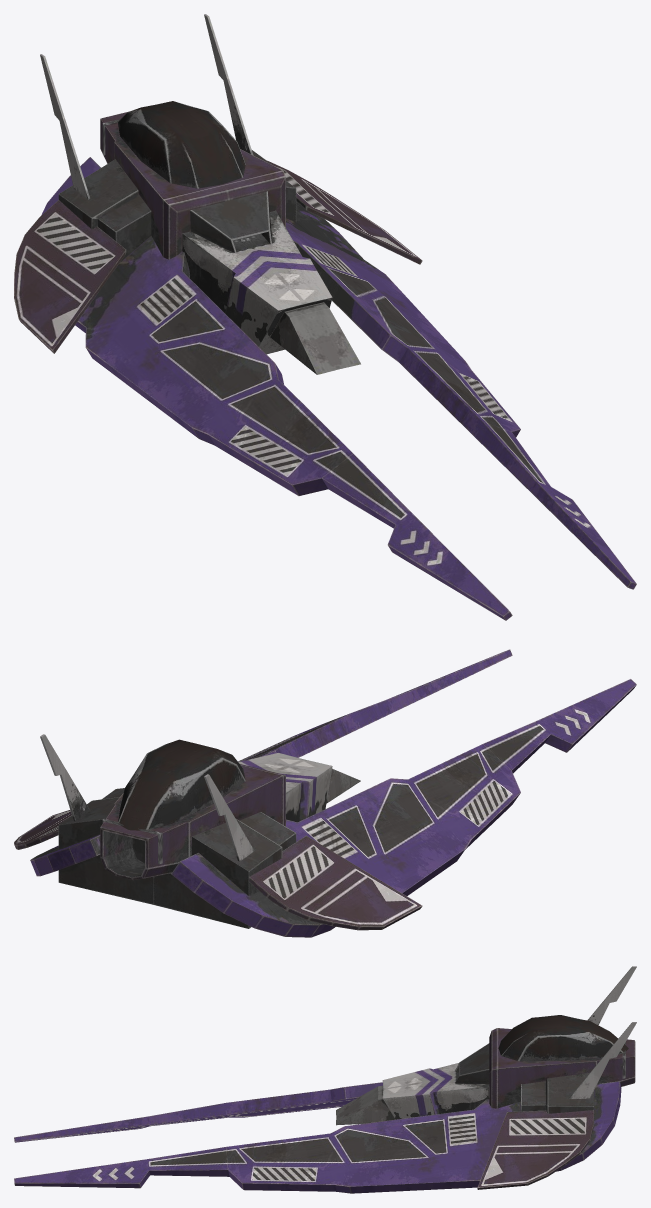
File: dispatcher_purple.glb
3 views of the same model, one above another, from view 1: azimuth 30°, elevation 25°; view 2: azimuth 150°, elevation 25°; view 3: azimuth 270°, elevation 25° (orthographic). The views are drawn at different scales.
Visible parts, largest first — view 1: dispatcher; view 2: dispatcher; view 3: dispatcher.
Part boxes in pixels (<box>): dispatcher: <box>14,14,636,620</box>; dispatcher: <box>14,649,636,937</box>; dispatcher: <box>14,966,636,1193</box>.
Size of the model in its own units: 4.9 by 3.09 by 10.26.
Materials: 1 (1 with a texture image).
